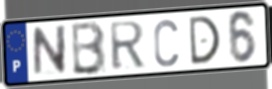6: (228, 9, 260, 66)
B: (71, 19, 108, 77)
C: (152, 17, 180, 69)
D: (187, 14, 222, 68)
N: (31, 23, 68, 79)
R: (107, 19, 147, 73)
